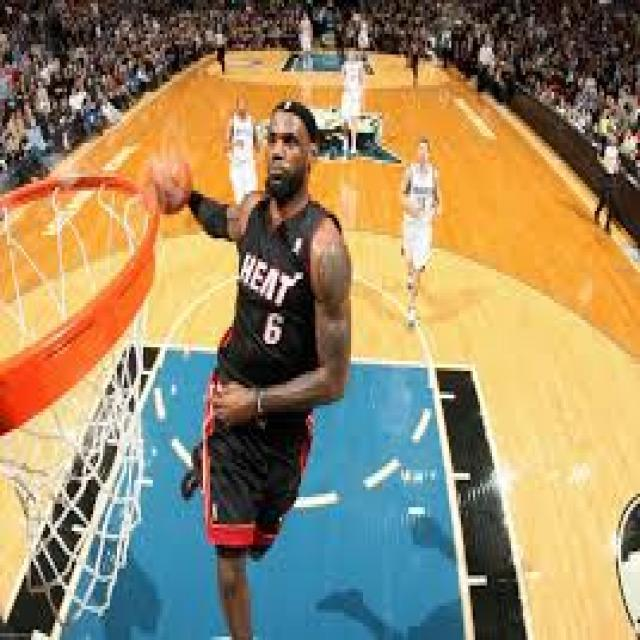rim: (150, 153, 191, 211)
